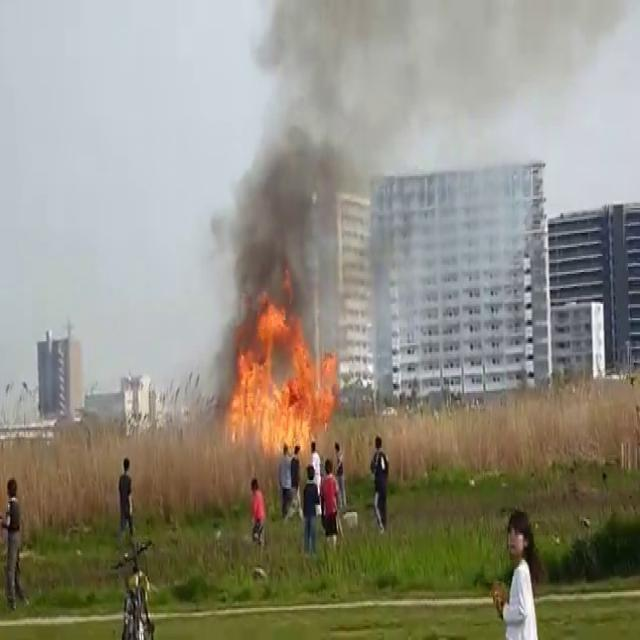Fire: (218, 298, 334, 458)
Smoke: (205, 0, 425, 347)
